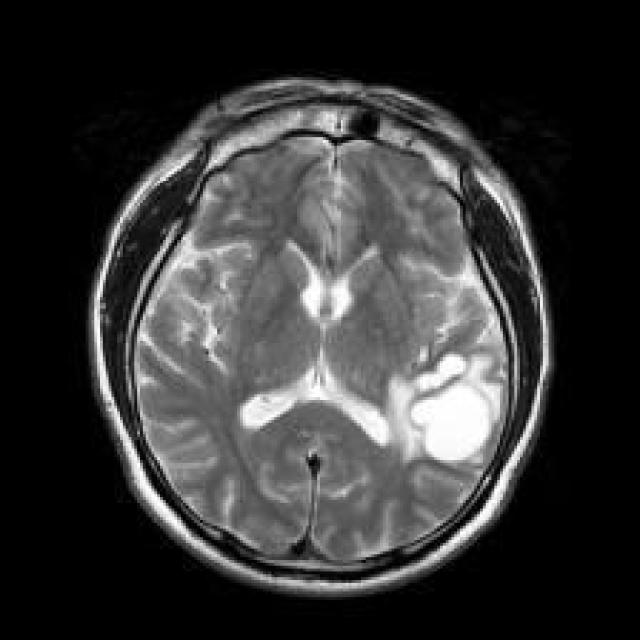Tumor: (411, 354, 506, 464)
